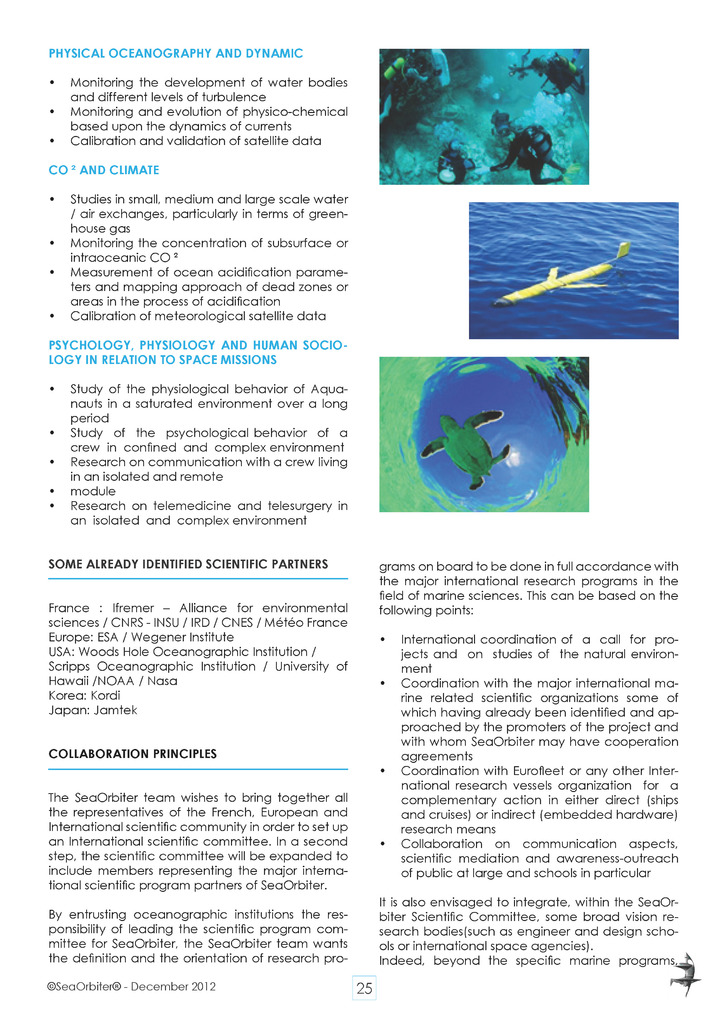Sea turtles: (416, 406, 514, 492)
